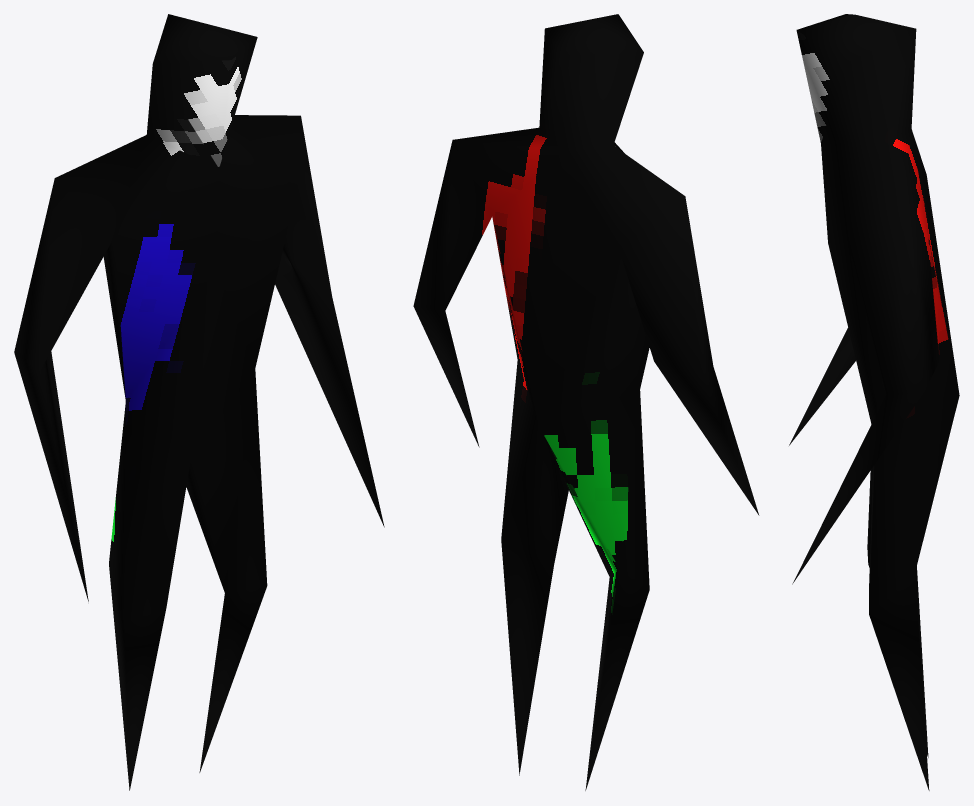
File: manuvmapshapekey.gltf
3 views of the same model, side by side, from view 1: azimuth 30°, elevation 25°; view 2: azimuth 150°, elevation 25°; view 3: azimuth 270°, elevation 25° (orthographic). The views are drawn at different scales.
Visible parts, largest first — view 1: unit; view 2: unit; view 3: unit.
Boxes of the visible parts, x1,y1,x2,y2 form: unit: [14, 14, 384, 790]; unit: [413, 14, 759, 790]; unit: [789, 14, 959, 790].
Size of the model in its own units: 0.539 by 1.33 by 0.2718.
1 material, 1 textured.
